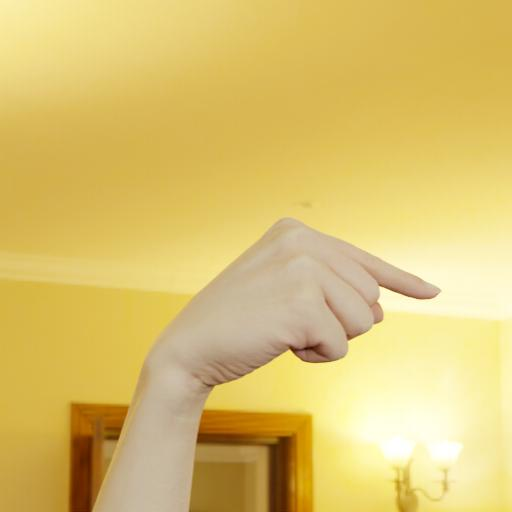G: (136, 196, 468, 451)
